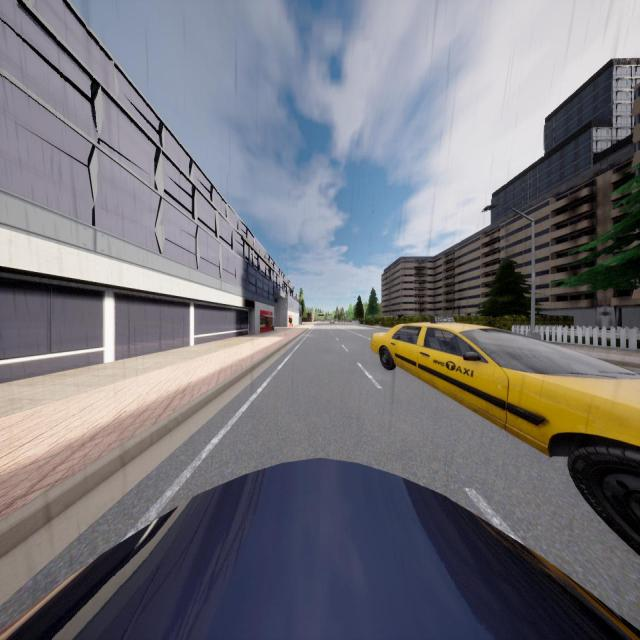Vehicle: (1, 456, 640, 640), (371, 322, 640, 550), (330, 318, 334, 324), (347, 320, 352, 323)
